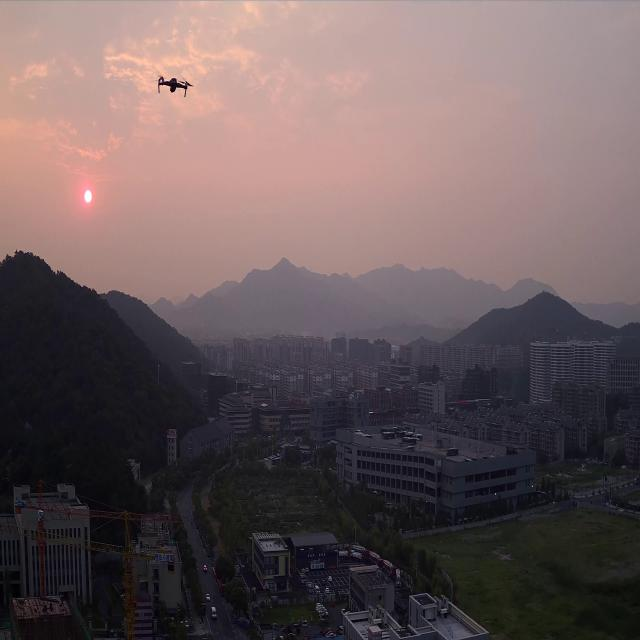UAV: (153, 74, 195, 97)
